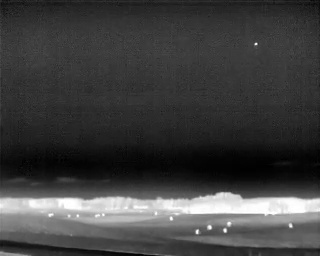BIRD: (252, 39, 260, 49)
